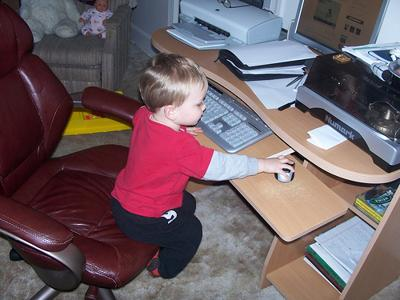person: (110, 54, 295, 281)
